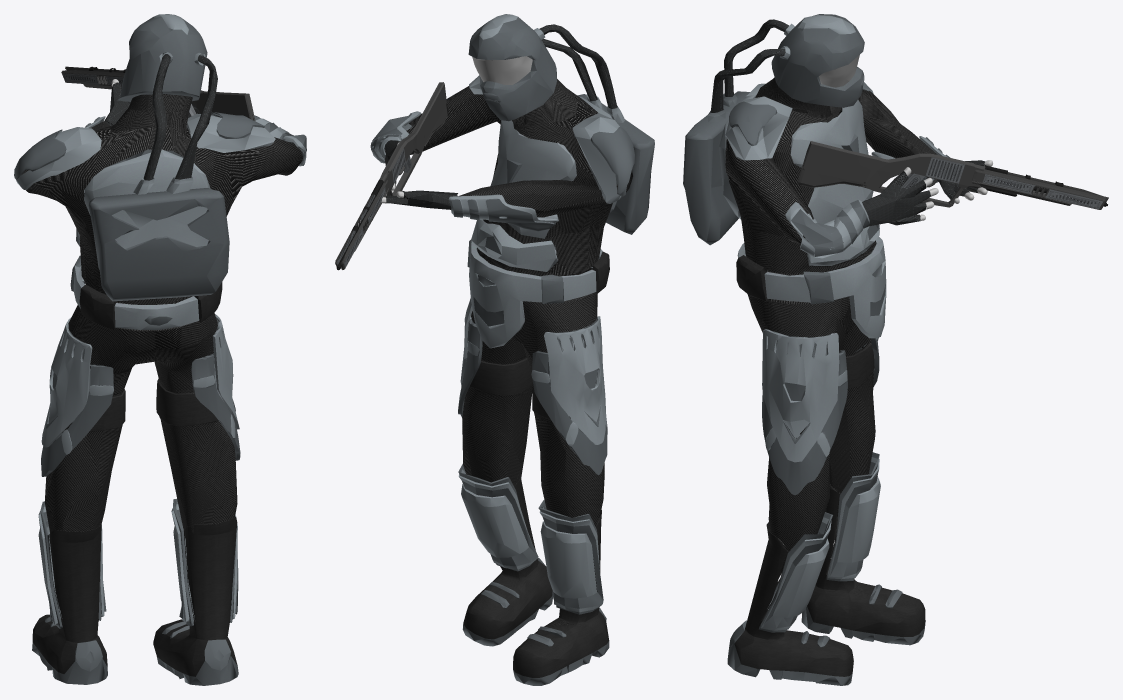
The picture shows the model from 3 angles, left to right: view 1: azimuth 30°, elevation 25°; view 2: azimuth 150°, elevation 25°; view 3: azimuth 270°, elevation 25°; orthographic projection. The views are drawn at different scales.
Visible parts, largest first — view 1: personaje:extrudedSurface2 polySurface12, personaje:PANTALON polySurface12, personaje:bota1 polySurface12, personaje:CAMISETABUENA polySurface12, personaje:pPipe4 polySurface12, personaje:pCube4 polySurface12, personaje:cinturon polySurface12, personaje:cosoarmdaurapierna1 polySurface12, personaje:polySurface6 polySurface12, escopeta:Cylinder001 polySurface12, personaje:armadbota1 polySurface12, personaje:cosoarmadurapierna2 polySurface12 (+4 smaller); view 2: personaje:PANTALON polySurface12, personaje:CAMISETABUENA polySurface12, personaje:pPipe4 polySurface12, personaje:bota1 polySurface12, personaje:extrudedSurface2 polySurface12, personaje:armadbota1 polySurface12, personaje:cinturon polySurface12, personaje:pCube4 polySurface12, personaje:cosoarmdaurapierna1 polySurface12, escopeta:Cylinder001 polySurface12, personaje:polySurface6 polySurface12, personaje:HOMBRO2 polySurface12 (+6 smaller); view 3: personaje:bota1 polySurface12, personaje:pPipe4 polySurface12, personaje:extrudedSurface2 polySurface12, personaje:CAMISETABUENA polySurface12, personaje:pCube4 polySurface12, personaje:PANTALON polySurface12, escopeta:Cylinder001 polySurface12, personaje:cinturon polySurface12, personaje:armadbota1 polySurface12, personaje:cosoarmadurapierna2 polySurface12, personaje:hombro1 polySurface12, personaje:partearmdBRAZO2 polySurface12 (+3 smaller).
Boxes of the visible parts, bbox=[...] form: personaje:extrudedSurface2 polySurface12: bbox=[88, 14, 229, 301]; personaje:PANTALON polySurface12: bbox=[44, 296, 237, 538]; personaje:bota1 polySurface12: bbox=[32, 517, 238, 685]; personaje:CAMISETABUENA polySurface12: bbox=[21, 94, 302, 331]; personaje:pPipe4 polySurface12: bbox=[14, 82, 306, 246]; personaje:pCube4 polySurface12: bbox=[40, 314, 239, 628]; personaje:cinturon polySurface12: bbox=[70, 255, 222, 329]; personaje:cosoarmdaurapierna1 polySurface12: bbox=[41, 317, 113, 454]; personaje:polySurface6 polySurface12: bbox=[89, 379, 218, 431]; escopeta:Cylinder001 polySurface12: bbox=[61, 66, 255, 120]; personaje:armadbota1 polySurface12: bbox=[38, 504, 237, 625]; personaje:cosoarmadurapierna2 polySurface12: bbox=[191, 353, 240, 460]; personaje:PANTALON polySurface12: bbox=[462, 253, 604, 526]; personaje:CAMISETABUENA polySurface12: bbox=[382, 57, 632, 302]; personaje:pPipe4 polySurface12: bbox=[372, 75, 626, 271]; personaje:bota1 polySurface12: bbox=[462, 476, 609, 685]; personaje:extrudedSurface2 polySurface12: bbox=[468, 14, 654, 234]; personaje:armadbota1 polySurface12: bbox=[458, 468, 601, 612]; personaje:cinturon polySurface12: bbox=[467, 236, 609, 348]; personaje:pCube4 polySurface12: bbox=[458, 298, 607, 614]; personaje:cosoarmdaurapierna1 polySurface12: bbox=[531, 316, 607, 446]; escopeta:Cylinder001 polySurface12: bbox=[335, 82, 448, 270]; personaje:polySurface6 polySurface12: bbox=[470, 356, 550, 419]; personaje:HOMBRO2 polySurface12: bbox=[590, 127, 634, 194]; personaje:bota1 polySurface12: bbox=[727, 485, 925, 685]; personaje:pPipe4 polySurface12: bbox=[719, 82, 985, 265]; personaje:extrudedSurface2 polySurface12: bbox=[683, 14, 864, 245]; personaje:CAMISETABUENA polySurface12: bbox=[725, 77, 937, 304]; personaje:pCube4 polySurface12: bbox=[759, 329, 879, 632]; personaje:PANTALON polySurface12: bbox=[747, 254, 875, 572]; escopeta:Cylinder001 polySurface12: bbox=[797, 141, 1108, 209]; personaje:cinturon polySurface12: bbox=[736, 236, 886, 338]; personaje:armadbota1 polySurface12: bbox=[760, 457, 880, 630]; personaje:cosoarmadurapierna2 polySurface12: bbox=[762, 340, 847, 495]; personaje:hombro1 polySurface12: bbox=[729, 101, 777, 145]; personaje:partearmdBRAZO2 polySurface12: bbox=[785, 200, 869, 258].
Size of the model in its own units: 4.26 by 9.66 by 5.65.
